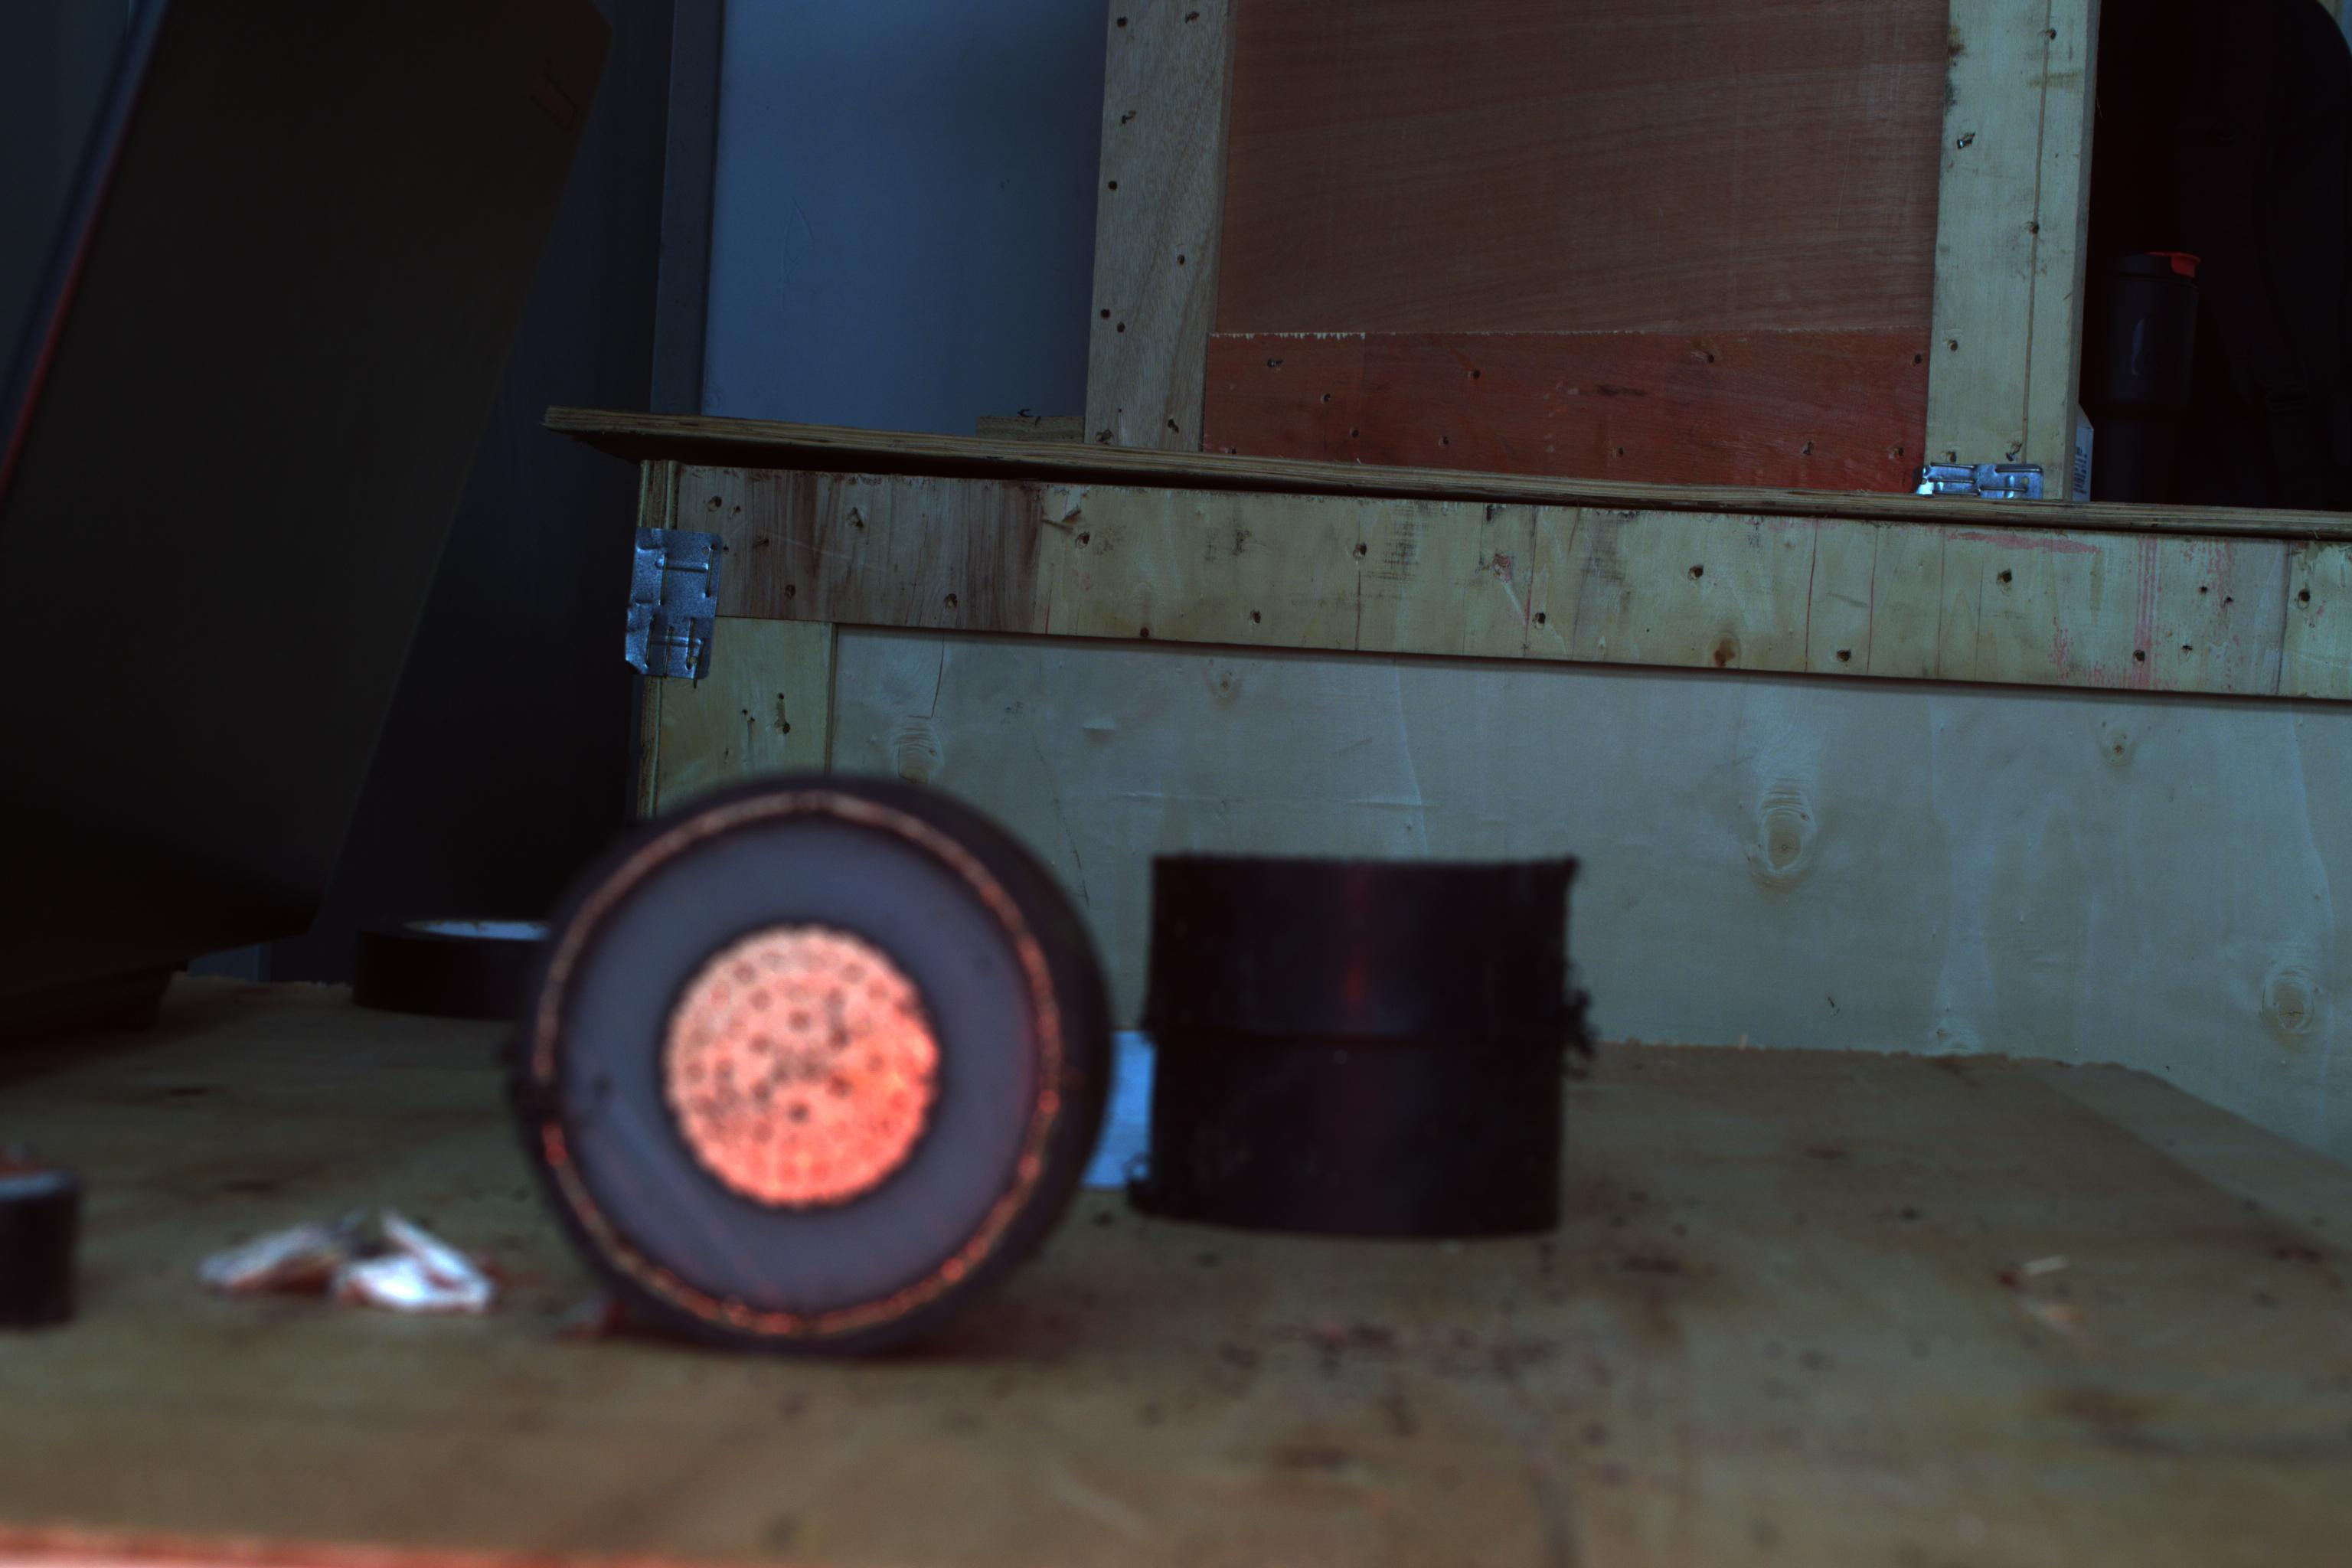YJV_26_35kV_1x630: (542, 787, 1060, 1347)
